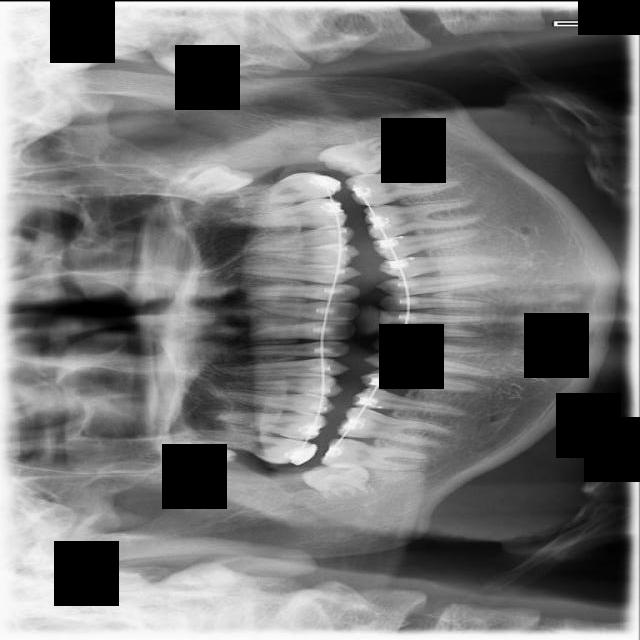3M ESPE Implant: (157, 436, 238, 475)
73: (519, 33, 532, 39)
BioHorizons Implant: (226, 164, 344, 214)
BioLife Implant: (177, 159, 257, 200)
Biomet 3i Implant: (315, 128, 415, 188)
Blue Sky Bio Implant: (343, 164, 465, 209)
Caries: (186, 423, 316, 469)
Implant: (319, 435, 432, 477)
Keystone Dental Implant: (300, 455, 375, 507)
